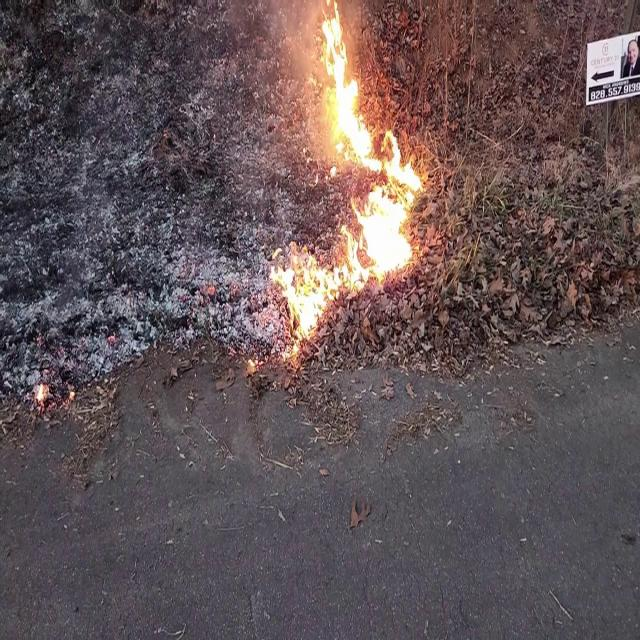Fire: (267, 184, 434, 321), (311, 1, 411, 185), (32, 372, 49, 412)
